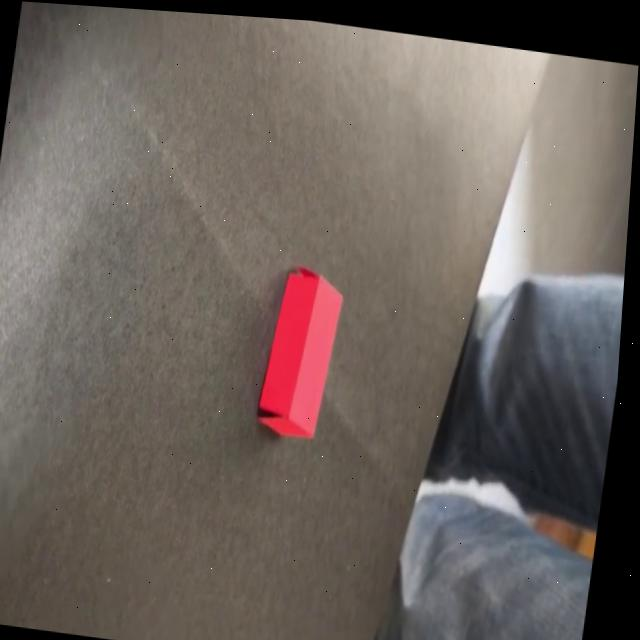red block: (254, 259, 348, 442)
